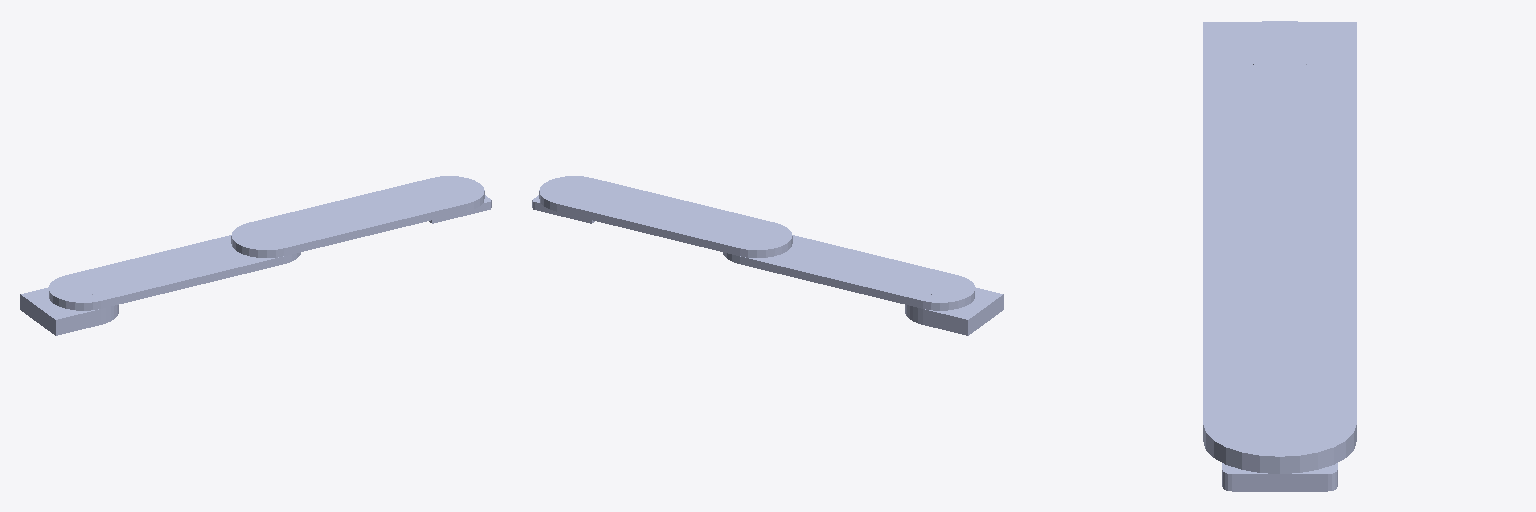
The robot description file, URDF, robot "rrr_description":
<?xml version="1.0" encoding="utf-8"?>
<!-- This URDF was automatically created by SolidWorks to URDF Exporter! Originally created by [author] ([email redacted])
     Commit Version: 1.6.0-1-g15f4949  Build Version: 1.6.7594.29634
     For more information, please see http://wiki.ros.org/sw_urdf_exporter -->
<robot
  name="rrr_description">
  <link
    name="link1">
    <!-- <inertial>
      <origin
        xyz="-0.0127598251073137 4.61061268743767E-20 0.0111867616952765"
        rpy="0 0 0" />
      <mass
        value="0.158831853071796" />
      <inertia
        ixx="8.0146799960269E-05"
        ixy="-3.38751795753867E-21"
        ixz="-2.40517036909365E-06"
        iyy="0.00011828688774278"
        iyz="4.14957984875535E-22"
        izz="0.000183265747871332" />
    </inertial> -->
    <visual>
      <origin
        xyz="0 0 0"
        rpy="0 0 0" />
      <geometry>
        <mesh
          filename="package://rrr_description/meshes/link1.STL" />
      </geometry>
      <material
        name="">
        <color
          rgba="0.792156862745098 0.819607843137255 0.933333333333333 1" />
      </material>
    </visual>
    <collision>
      <origin
        xyz="0 0 0"
        rpy="0 0 0" />
      <geometry>
        <mesh
          filename="package://rrr_description/meshes/link1.STL" />
      </geometry>
    </collision>
  </link>
  <link
    name="link2">
    <inertial>
      <origin
        xyz="0.13244885947785 1.21731234953969E-35 0.00551870247824376"
        rpy="0 0 0" />
      <mass
        value="0.242265482457437" />
      <inertia
        ixx="0.000125716526989087"
        ixy="-3.76211496698067E-21"
        ixz="-1.35152749179836E-05"
        iyy="0.00183599459871424"
        iyz="-1.37342353502441E-38"
        izz="0.0019552904576911" />
    </inertial>
    <visual>
      <origin
        xyz="0 0 0"
        rpy="0 0 0" />
      <geometry>
        <mesh
          filename="package://rrr_description/meshes/link2.STL" />
      </geometry>
      <material
        name="">
        <color
          rgba="0.792156862745098 0.819607843137255 0.933333333333333 1" />
      </material>
    </visual>
    <collision>
      <origin
        xyz="0 0 0"
        rpy="0 0 0" />
      <geometry>
        <mesh
          filename="package://rrr_description/meshes/link2.STL" />
      </geometry>
    </collision>
  </link>
  <joint
    name="joint1"
    type="continuous">
    <origin
      xyz="0 0 0.02"
      rpy="0 0 0" />
    <parent
      link="link1" />
    <child
      link="link2" />
    <axis
      xyz="0 0 1" />
  </joint>
  <link
    name="link3">
    <inertial>
      <origin
        xyz="0.13244885947785 7.69610818219988E-36 0.0144812975217562"
        rpy="0 0 0" />
      <mass
        value="0.242265482457437" />
      <inertia
        ixx="0.000125716526989087"
        ixy="-3.5150983533219E-22"
        ixz="1.35152749179836E-05"
        iyy="0.00183599459871424"
        iyz="-2.12179576529997E-38"
        izz="0.0019552904576911" />
    </inertial>
    <visual>
      <origin
        xyz="0 0 0"
        rpy="0 0 0" />
      <geometry>
        <mesh
          filename="package://rrr_description/meshes/link3.STL" />
      </geometry>
      <material
        name="">
        <color
          rgba="0.792156862745098 0.819607843137255 0.933333333333333 1" />
      </material>
    </visual>
    <collision>
      <origin
        xyz="0 0 0"
        rpy="0 0 0" />
      <geometry>
        <mesh
          filename="package://rrr_description/meshes/link3.STL" />
      </geometry>
    </collision>
  </link>
  <joint
    name="joint2"
    type="continuous">
    <origin
      xyz="0.24 0 0"
      rpy="0 0 0" />
    <parent
      link="link2" />
    <child
      link="link3" />
    <axis
      xyz="0 0 1" />
  </joint>
  <link
    name="link4">
    <inertial>
      <origin
        xyz="-0.000118104512646156 -1.76242540767573E-17 0.005"
        rpy="0 0 0" />
      <mass
        value="0.0353263284673395" />
      <inertia
        ixx="1.33481403044476E-05"
        ixy="-5.01356880747101E-22"
        ixz="1.54259250097793E-22"
        iyy="2.44749336646266E-05"
        iyz="-4.49767816670989E-23"
        izz="3.72343018279519E-05" />
    </inertial>
    <visual>
      <origin
        xyz="0 0 0"
        rpy="0 0 0" />
      <geometry>
        <mesh
          filename="package://rrr_description/meshes/link4.STL" />
      </geometry>
      <material
        name="">
        <color
          rgba="0.792156862745098 0.819607843137255 0.933333333333333 1" />
      </material>
    </visual>
    <collision>
      <origin
        xyz="0 0 0"
        rpy="0 0 0" />
      <geometry>
        <mesh
          filename="package://rrr_description/meshes/link4.STL" />
      </geometry>
    </collision>
  </link>
  <joint
    name="joint3"
    type="continuous">
    <origin
      xyz="0.24 0 0"
      rpy="0 0 0" />
    <parent
      link="link3" />
    <child
      link="link4" />
    <axis
      xyz="0 0 1" />
  </joint>
</robot>

--- What the picture shows (computed from the rendered views, not written in the file) ---
The picture shows the robot from 3 angles, left to right: view 1: azimuth 30°, elevation 25°; view 2: azimuth 150°, elevation 25°; view 3: azimuth 270°, elevation 25°; orthographic projection.
Robot: rrr_description — 4 links, 3 joints (3 continuous); root link link1; default pose: all joints at 0.
Links seen in each view (by area): view 1: link3, link2, link1; view 2: link3, link2, link1; view 3: link3, link2, link1, link4.
Boxes of the visible links, left/top/right/bottom form: link3: left=231, top=176, right=484, bottom=257; link2: left=49, top=228, right=300, bottom=310; link1: left=20, top=281, right=118, bottom=335; link3: left=539, top=176, right=792, bottom=257; link2: left=723, top=228, right=974, bottom=310; link1: left=905, top=281, right=1003, bottom=335; link3: left=1203, top=198, right=1356, bottom=473; link2: left=1203, top=21, right=1356, bottom=245; link1: left=1203, top=22, right=1356, bottom=68; link4: left=1222, top=463, right=1337, bottom=491.
Bounding box of the posed robot: 0.58 × 0.08 × 0.04 m (x, y, z).
Meshes: 4 distinct files referenced, 4 mesh visuals loaded (4 binary STL).